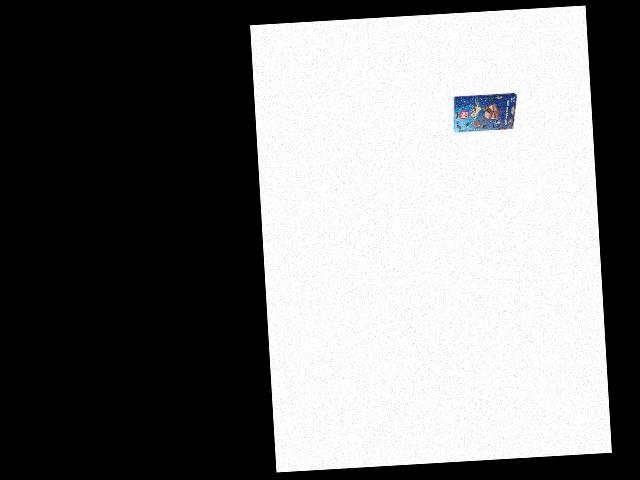chocolate: (450, 88, 519, 137)
